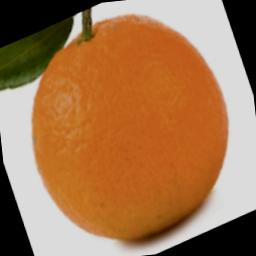Orange Ripe: (2, 1, 252, 245)
